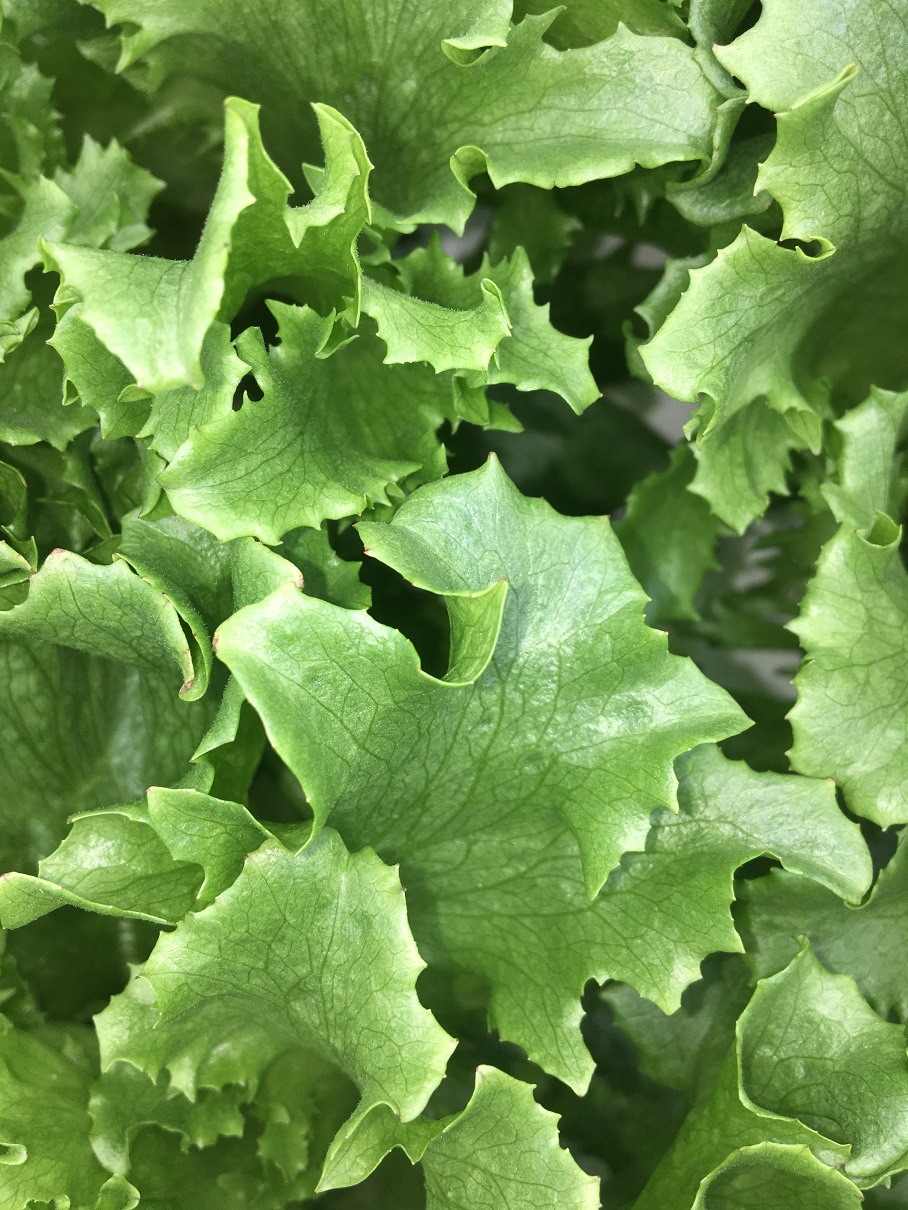tipburn: (49, 795, 92, 843), (767, 92, 816, 130), (23, 222, 62, 263), (691, 31, 731, 70), (163, 632, 202, 670), (41, 531, 79, 568), (486, 563, 523, 601), (211, 229, 247, 267), (348, 533, 384, 570), (170, 669, 206, 705), (200, 625, 234, 663), (842, 50, 872, 90), (708, 100, 746, 130), (285, 566, 319, 599)
